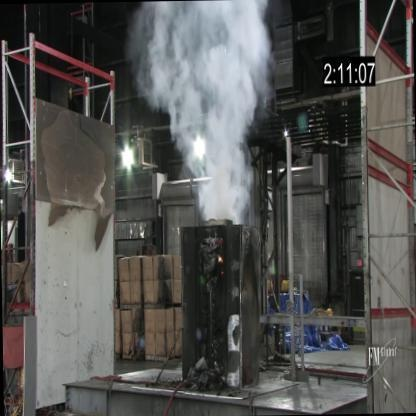smoke: (147, 0, 261, 221)
